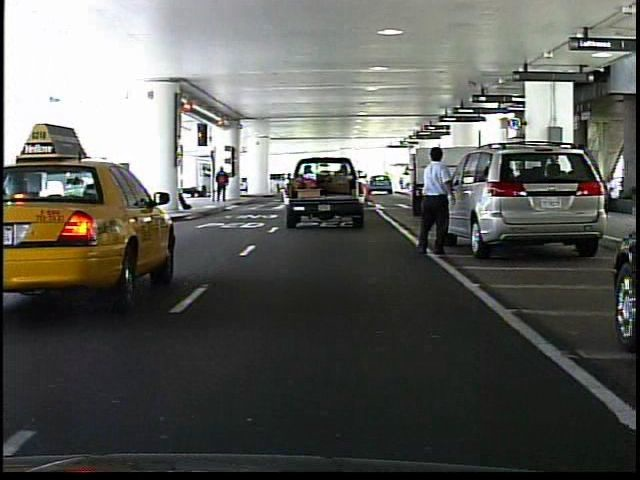person: (408, 143, 460, 264), (213, 163, 232, 205)
